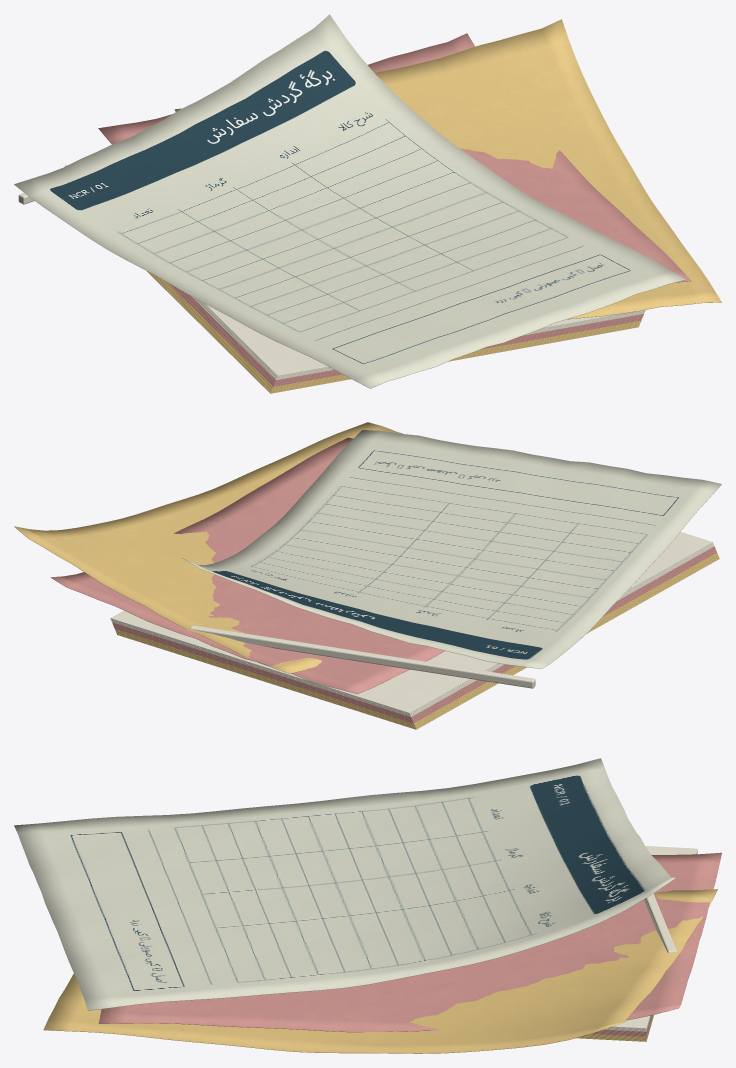
File: carbonless.glb
The picture shows the model from 3 angles, top to bottom: view 1: azimuth 30°, elevation 25°; view 2: azimuth 150°, elevation 25°; view 3: azimuth 270°, elevation 25°; orthographic projection. The views are drawn at different scales.
Visible parts, largest first — view 1: Printed original, Canary copy lifted by the fold, Pink second copy, Pressure-bonded copy stack.018, Pressure-bonded copy stack, Pressure-bonded copy stack.001, Pressure-bonded copy stack.002, Pressure-bonded copy stack.003, Pressure-bonded copy stack.004; view 2: Printed original, Pink second copy, Canary copy lifted by the fold, Pressure-bonded copy stack.018, Glued top edge, Pressure-bonded copy stack, Pressure-bonded copy stack.001, Pressure-bonded copy stack.002, Pressure-bonded copy stack.003, Pressure-bonded copy stack.004, Pressure-bonded copy stack.005, Pressure-bonded copy stack.006 (+11 smaller); view 3: Printed original, Pink second copy, Canary copy lifted by the fold, Pressure-bonded copy stack.018, Glued top edge.
Boxes of the visible parts, x1,y1,x2,y2 form: Printed original: (14, 14, 685, 388); Canary copy lifted by the fold: (174, 19, 721, 319); Pink second copy: (98, 33, 691, 282); Pressure-bonded copy stack.018: (65, 164, 637, 376); Pressure-bonded copy stack: (147, 271, 638, 393); Pressure-bonded copy stack.001: (149, 272, 638, 392); Pressure-bonded copy stack.002: (152, 274, 639, 391); Pressure-bonded copy stack.003: (156, 276, 639, 390); Pressure-bonded copy stack.004: (158, 277, 639, 389); Printed original: (182, 430, 721, 668); Pink second copy: (50, 437, 444, 694); Canary copy lifted by the fold: (14, 422, 403, 673); Pressure-bonded copy stack.018: (110, 532, 712, 713); Glued top edge: (189, 625, 535, 688); Pressure-bonded copy stack: (117, 558, 719, 729); Pressure-bonded copy stack.001: (116, 557, 719, 728); Pressure-bonded copy stack.002: (116, 556, 718, 727); Pressure-bonded copy stack.003: (116, 555, 718, 726); Pressure-bonded copy stack.004: (116, 554, 717, 725); Pressure-bonded copy stack.005: (115, 553, 717, 725); Pressure-bonded copy stack.006: (115, 553, 717, 724); Printed original: (14, 758, 675, 1010); Pink second copy: (98, 852, 721, 1032); Canary copy lifted by the fold: (43, 889, 717, 1053); Pressure-bonded copy stack.018: (611, 846, 697, 1028); Glued top edge: (644, 893, 676, 952).
Bounding box in the file's own units: 0.324 × 0.0629 × 0.334.
4 materials, 4 textured.
